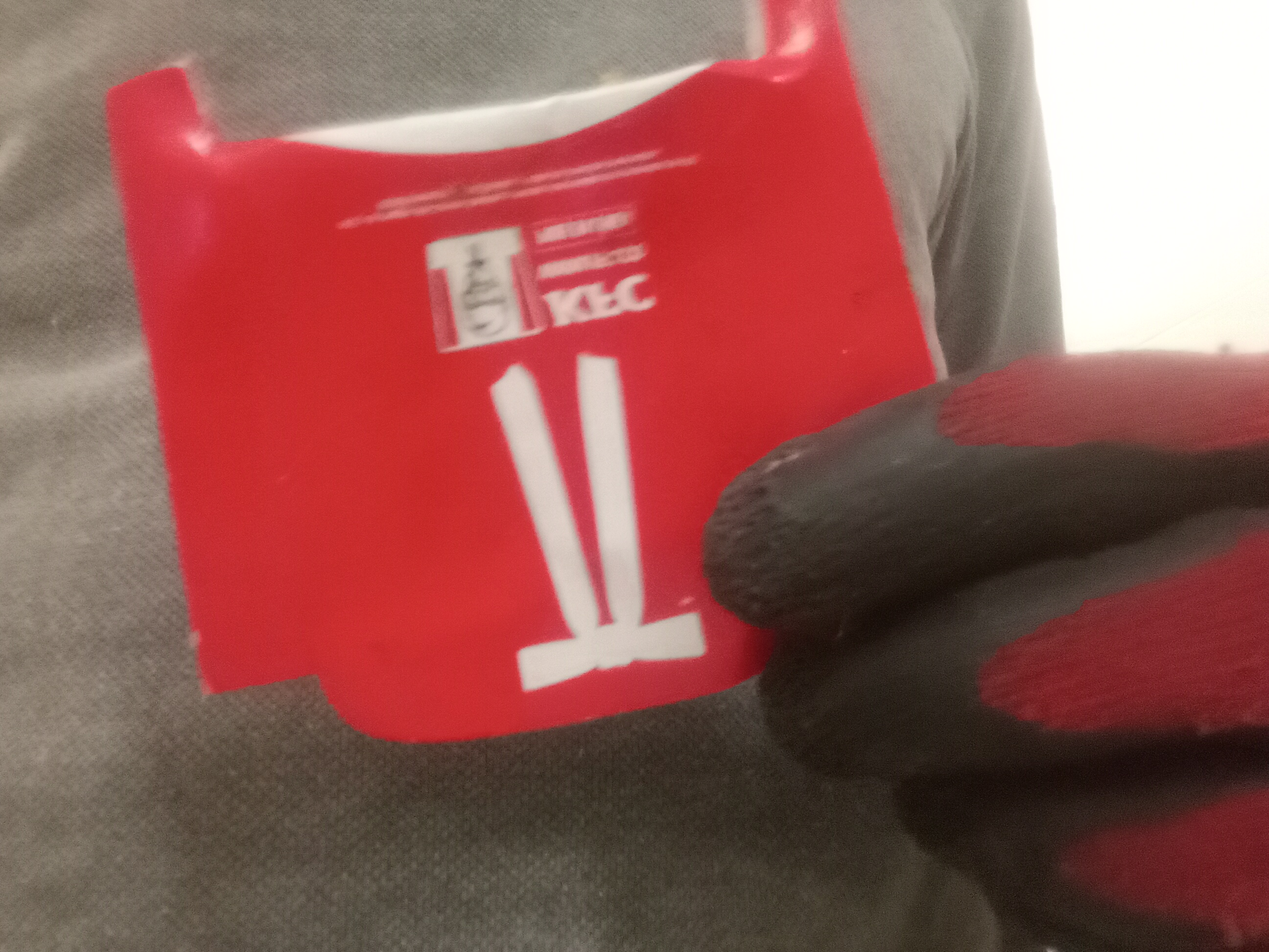Carton: (108, 56, 940, 745)
